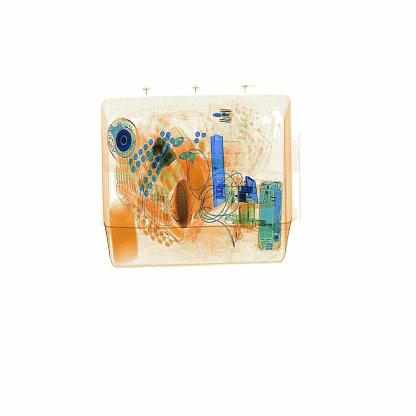pliers: (200, 127, 234, 217)
